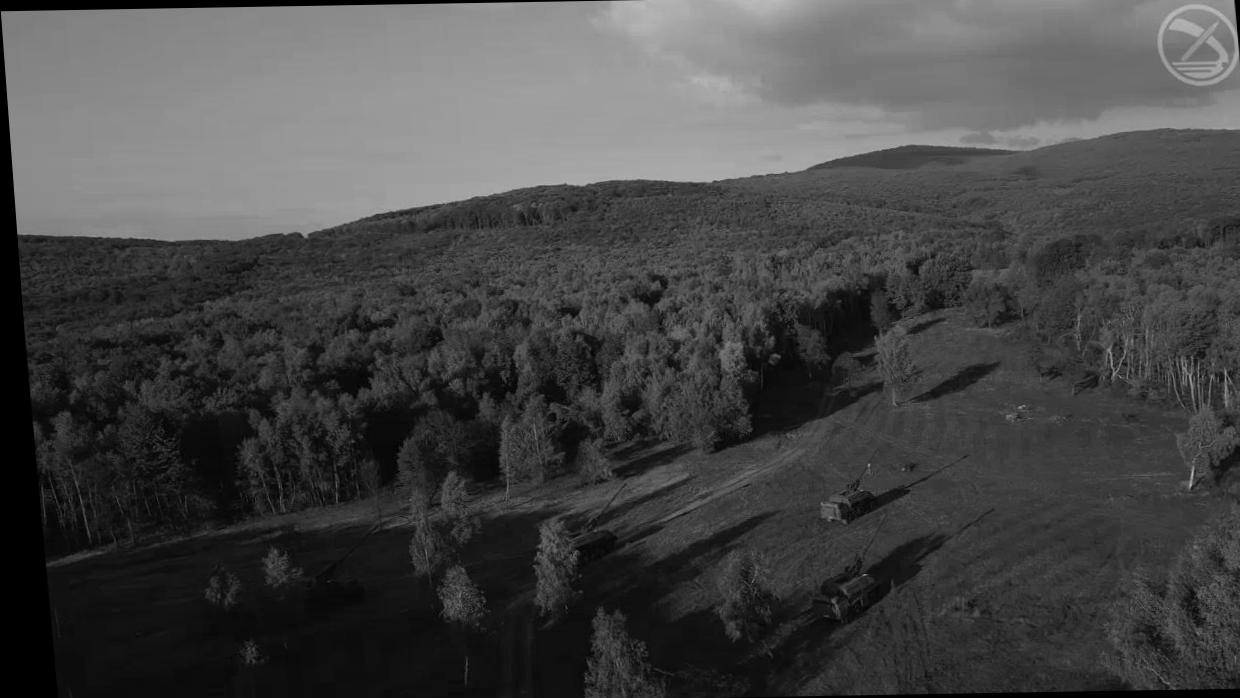sau: (803, 512, 898, 624), (287, 520, 391, 618), (541, 480, 637, 570), (814, 446, 885, 524)
